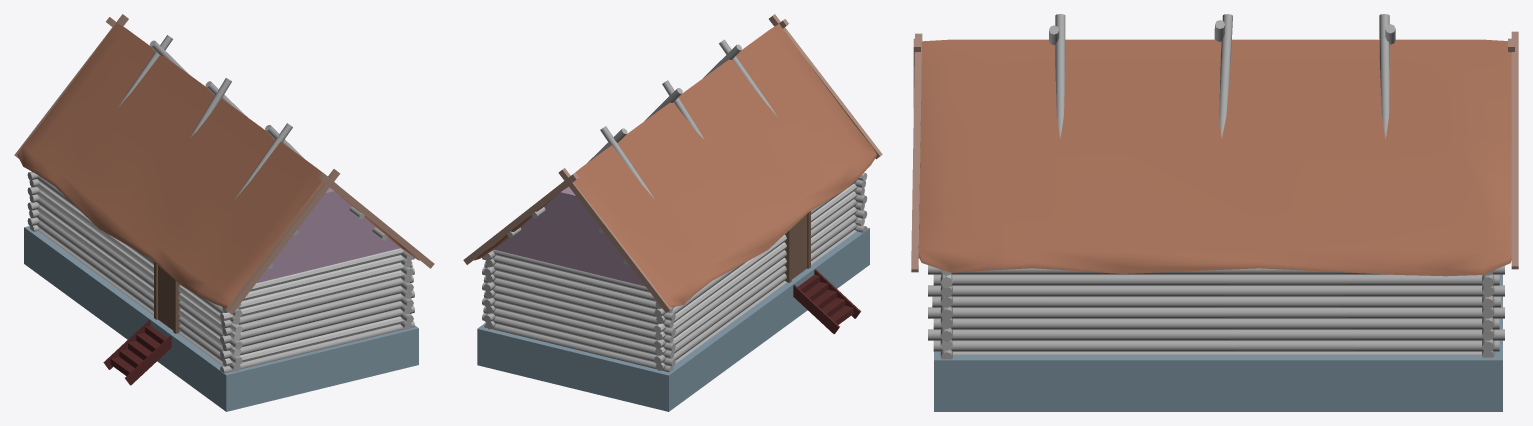
Rendered from outbuilding.fbx.
3 views of the same model, side by side, from view 1: azimuth 30°, elevation 25°; view 2: azimuth 150°, elevation 25°; view 3: azimuth 270°, elevation 25° (orthographic). The views are drawn at different scales.
Visible parts, largest first — view 1: pCube50, pCube54, pCube53, pCube51, pCylinder42, pCylinder40, pCylinder12, pCylinder37, pCylinder38, pCylinder18, pCylinder39, pCylinder19 (+19 smaller); view 2: pCube50, pCube54, pCube53, pCylinder13, pCylinder15, pCylinder25, pCylinder11, pCylinder17, pCylinder12, pCylinder16, pCylinder26, pCylinder18 (+18 smaller); view 3: pCube50, pCube54, pCylinder49, pCylinder51, pCylinder53, pCylinder50, pCylinder52, pCylinder54, pCylinder48, pCylinder65, pCylinder47, pCube58 (+4 smaller).
Boxes of the visible parts, x1,y1,x2,y2 form: pCube50: (17,22,419,308); pCube54: (24,226,418,411); pCube53: (256,188,400,283); pCube51: (225,169,340,314); pCylinder42: (220,305,414,359); pCylinder40: (220,290,414,343); pCylinder12: (37,214,242,365); pCylinder37: (220,266,414,321); pCylinder38: (221,275,413,328); pCylinder18: (37,198,242,349); pCylinder39: (222,283,410,335); pCylinder19: (37,191,241,340); pCube50: (474,24,876,306); pCube54: (477,227,869,411); pCube53: (494,186,645,286); pCylinder13: (483,306,674,358); pCylinder15: (482,282,675,336); pCylinder25: (482,267,675,321); pCylinder11: (482,313,675,366); pCylinder17: (482,297,675,351); pCylinder12: (654,209,864,364); pCylinder16: (483,291,673,343); pCylinder26: (483,275,673,328); pCylinder18: (654,194,864,348); pCube50: (918,39,1511,276); pCube54: (934,274,1502,411); pCylinder49: (928,285,1504,296); pCylinder51: (928,307,1504,318); pCylinder53: (928,329,1504,340); pCylinder50: (932,296,1500,307); pCylinder52: (933,318,1499,329); pCylinder54: (933,340,1499,351); pCylinder48: (933,274,1499,285); pCylinder65: (953,351,1481,354); pCylinder47: (928,265,1504,274); pCube58: (1511,31,1518,269).
Bounding box in the file's own units: 782 × 715 × 1175.
